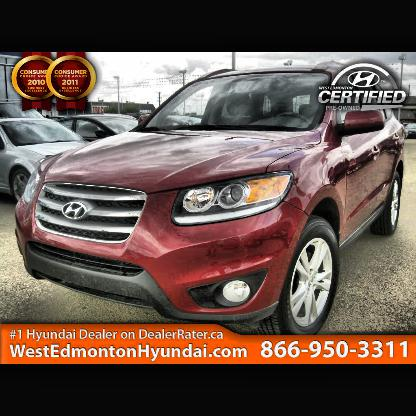Hyundai Santa Fe SUV 2012: (9, 57, 409, 343)
